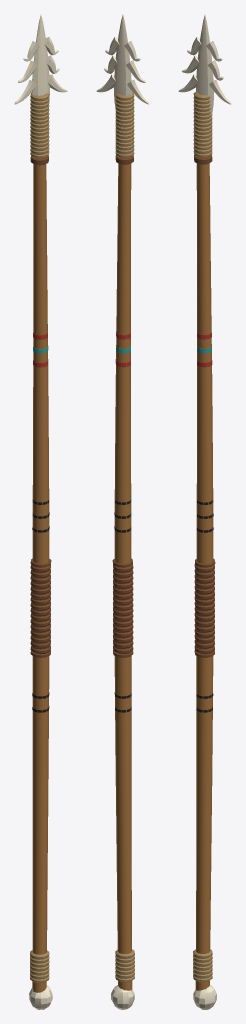
File: tool_harpoon_bone.fbx
3 views of the same model, side by side, from view 1: azimuth 30°, elevation 25°; view 2: azimuth 150°, elevation 25°; view 3: azimuth 330°, elevation 25° (orthographic).
Visible parts, largest first — view 1: Tool_Harpoon_Bone_Shaft, Tool_Harpoon_Bone_Wraps, Tool_Harpoon_Bone_Head; view 2: Tool_Harpoon_Bone_Shaft, Tool_Harpoon_Bone_Wraps, Tool_Harpoon_Bone_Head; view 3: Tool_Harpoon_Bone_Shaft, Tool_Harpoon_Bone_Wraps, Tool_Harpoon_Bone_Head.
Part boxes in pixels (bbox=[...]): Tool_Harpoon_Bone_Shaft: bbox=[32, 157, 49, 992]; Tool_Harpoon_Bone_Wraps: bbox=[30, 93, 51, 982]; Tool_Harpoon_Bone_Head: bbox=[14, 15, 67, 1009]; Tool_Harpoon_Bone_Shaft: bbox=[114, 157, 132, 990]; Tool_Harpoon_Bone_Wraps: bbox=[112, 92, 134, 982]; Tool_Harpoon_Bone_Head: bbox=[96, 15, 149, 1009]; Tool_Harpoon_Bone_Shaft: bbox=[195, 156, 213, 990]; Tool_Harpoon_Bone_Wraps: bbox=[193, 91, 215, 982]; Tool_Harpoon_Bone_Head: bbox=[178, 15, 231, 1009].
Size of the model in its own units: 14.11 by 252 by 5.4.
